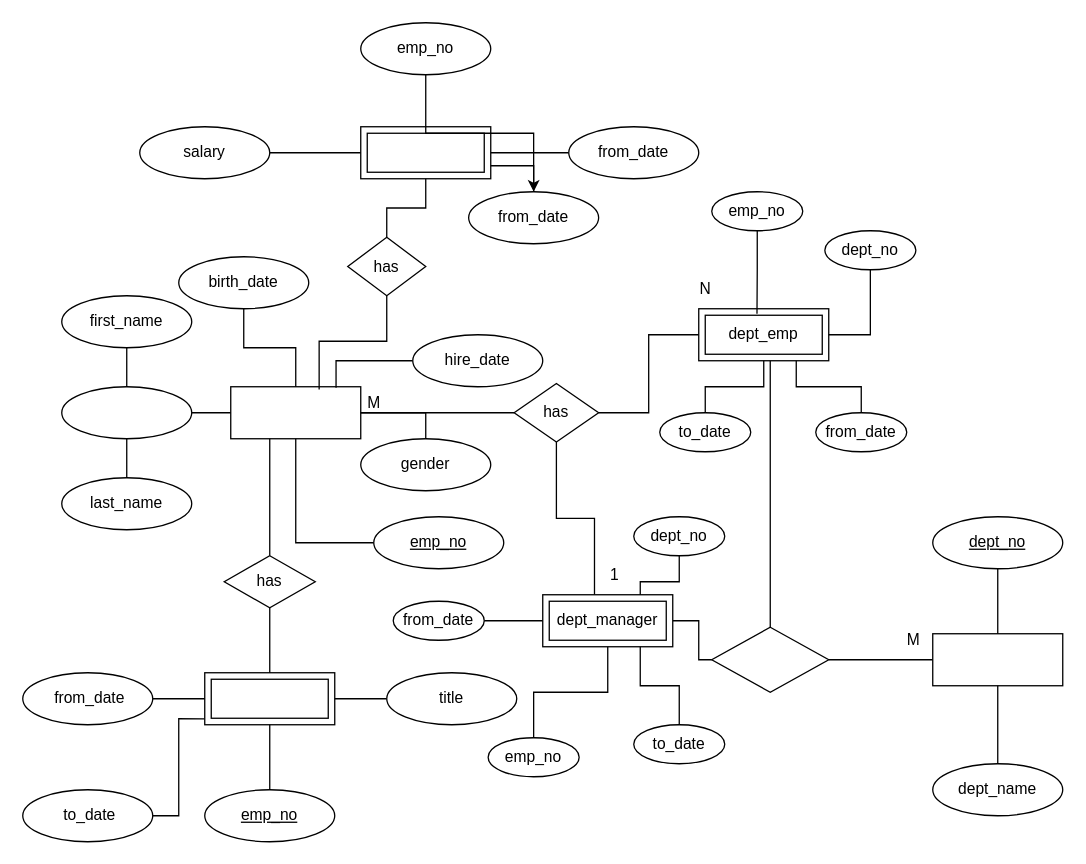
The diagram is 1086 pixels wide and 864 high, and some of its shapes have lost their labels. The shapes that lost their labels are listed below. From the top down, each one's centre as x and y in pixels, then its label:
At (x=425, y=152): "salaries".
At (x=126, y=412): "emp_name".
At (x=295, y=412): "employees".
At (x=769, y=659): "works_on".
At (x=997, y=659): "department".
At (x=269, y=698): "titles".
